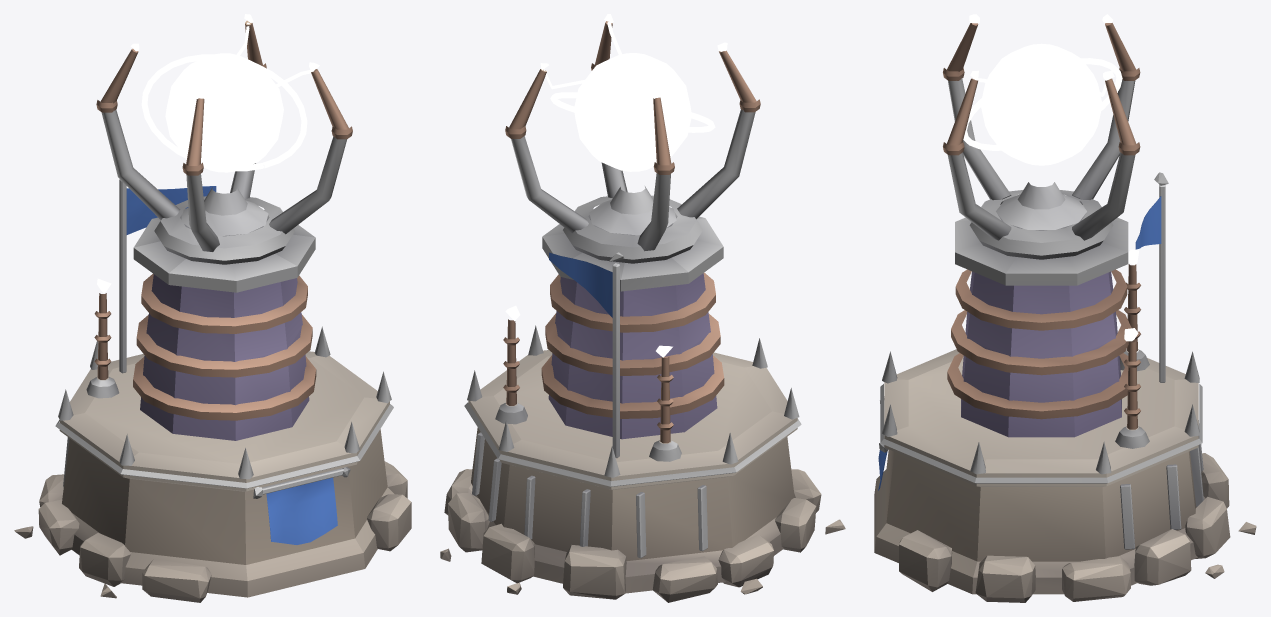
File: spark_2_5.glb
The picture shows the model from 3 angles, left to right: view 1: azimuth 30°, elevation 25°; view 2: azimuth 150°, elevation 25°; view 3: azimuth 270°, elevation 25°; orthographic projection. The views are drawn at different scales.
Visible parts, largest first — view 1: Tower, Turret; view 2: Tower, Turret; view 3: Tower, Turret.
Boxes of the visible parts, x1,y1,x2,y2 form: Tower: (14, 179, 411, 602); Turret: (96, 14, 352, 264); Tower: (440, 209, 845, 602); Turret: (505, 14, 760, 263); Tower: (874, 172, 1256, 602); Turret: (943, 14, 1140, 259).
Bounding box in the file's own units: 3.56 × 4.94 × 3.51.
